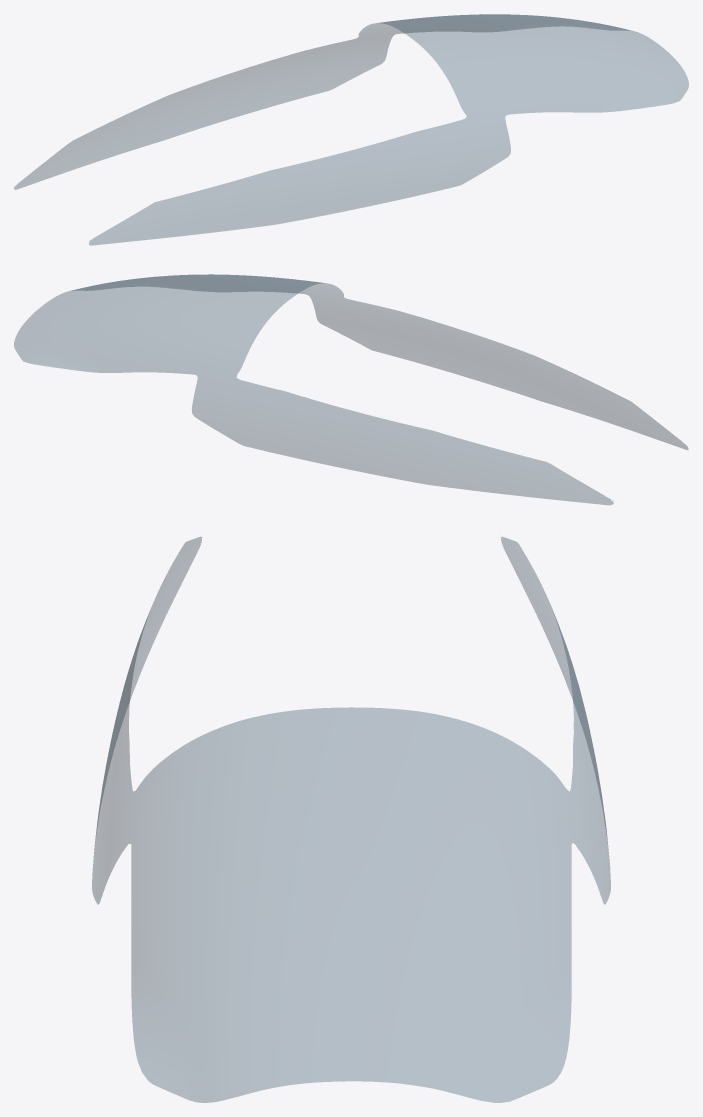
File: canopy.dae
3 views of the same model, one above another, from view 1: azimuth 30°, elevation 25°; view 2: azimuth 150°, elevation 25°; view 3: azimuth 270°, elevation 25° (orthographic). The views are drawn at different scales.
Visible parts, largest first — view 1: canopy; view 2: canopy; view 3: canopy.
Boxes of the visible parts, x1,y1,x2,y2 form: canopy: (14, 14, 688, 245); canopy: (14, 274, 688, 505); canopy: (92, 537, 610, 1102).
Size of the model in its own units: 1.72 by 0.6366 by 0.2682.
